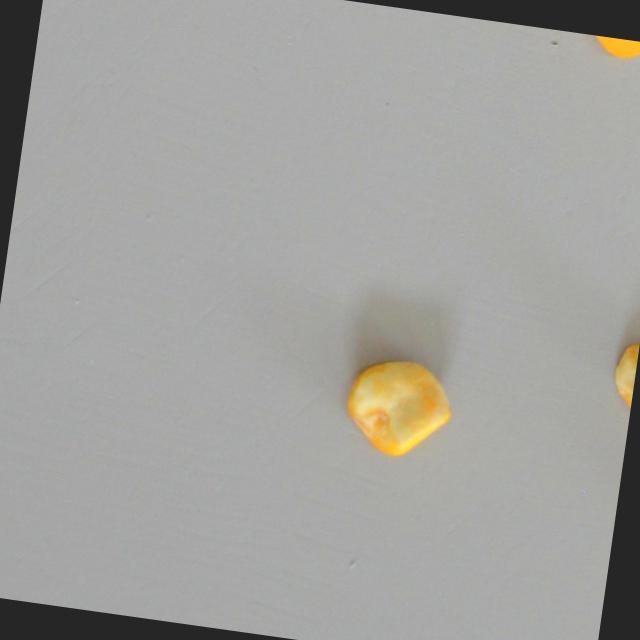dañado: (334, 345, 465, 469)
no_canjicado: (570, 32, 640, 62)
pelicula: (597, 334, 640, 447)
